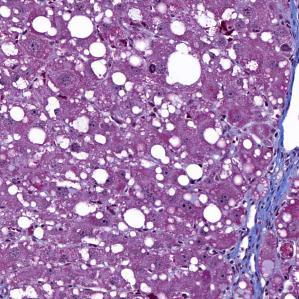fibrosis: (234, 157, 299, 264)
